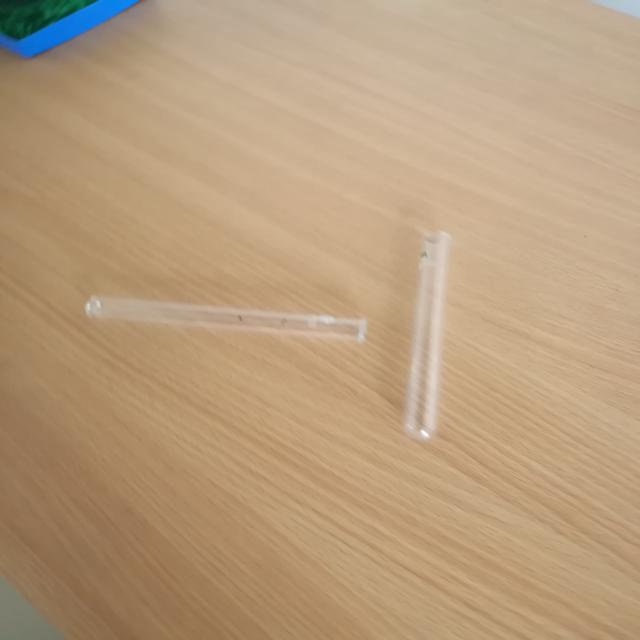Test_Tube: (46, 258, 385, 384), (383, 194, 504, 456)
